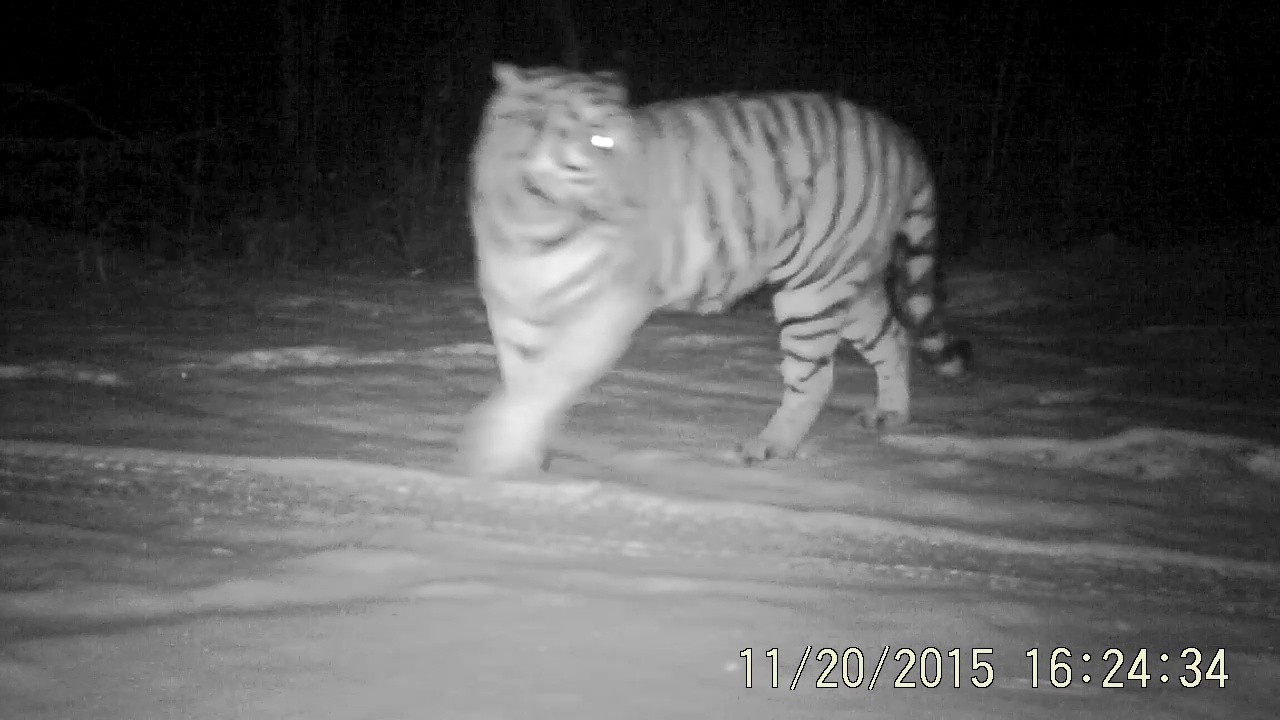Tiger: (410, 27, 1072, 520)
